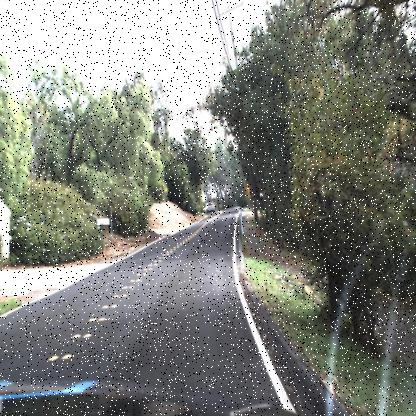car: (203, 197, 222, 217), (202, 198, 216, 218)
